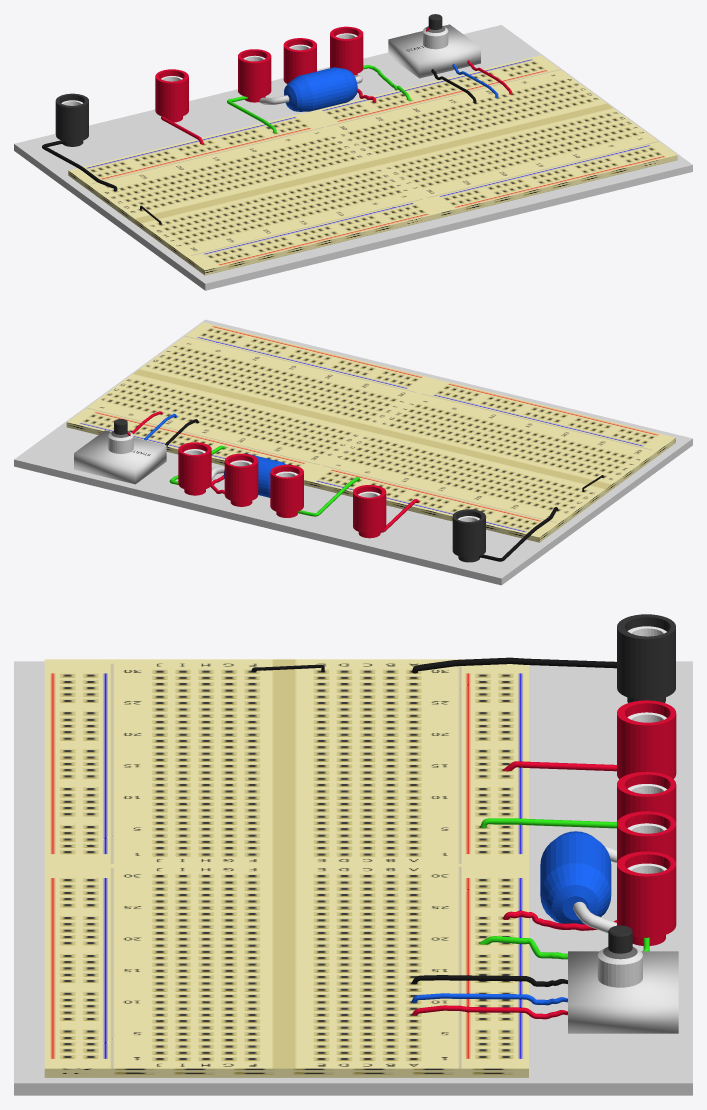
The model's file is breadboardv2.fbx.
3 renders of one model, top to bottom at view 1: azimuth 30°, elevation 25°; view 2: azimuth 150°, elevation 25°; view 3: azimuth 270°, elevation 25°, orthographic. The views are drawn at different scales.
Parts seen in each view (by area): view 1: Cube, Cube.004, Cube.001, Cube.002, Cylinder.001, Cylinder, Cylinder.006, Cylinder.005, Cylinder.010, Cylinder.009, Cylinder.003, Vert; view 2: Cube, Cube.004, Cube.001, Cube.002, Cylinder.009, Cylinder.010, Cylinder.005, Cylinder.006, Cylinder, Cylinder.001, Cylinder.003; view 3: Cube.004, Cube, Cube.001, Cube.002, Cylinder.001, Cylinder.010, Cylinder, Cylinder.005, Cylinder.009, Cylinder.006, Cylinder.003, Vert (+7 smaller).
Part boxes in pixels (x1,y1,x2,y2): Cube: (68, 113, 441, 275); Cube.004: (305, 55, 677, 217); Cube.001: (14, 25, 692, 290); Cube.002: (388, 24, 480, 78); Cylinder.001: (284, 67, 357, 111); Cylinder: (55, 93, 88, 146); Cylinder.006: (238, 49, 271, 102); Cylinder.005: (155, 69, 188, 122); Cylinder.010: (330, 26, 363, 75); Cylinder.009: (283, 38, 316, 83); Cylinder.003: (423, 26, 448, 49); Vert: (42, 140, 117, 191); Cube: (304, 380, 675, 542); Cube.004: (66, 322, 439, 478); Cube.001: (14, 319, 692, 585); Cube.002: (74, 430, 166, 484); Cylinder.009: (224, 453, 258, 506); Cylinder.010: (178, 442, 211, 495); Cylinder.005: (353, 485, 386, 538); Cylinder.006: (270, 464, 303, 517); Cylinder: (452, 509, 485, 562); Cylinder.001: (224, 453, 285, 497); Cylinder.003: (108, 431, 133, 453); Cube.004: (44, 864, 528, 1077); Cube: (44, 659, 528, 863); Cube.001: (14, 661, 692, 1095); Cube.002: (568, 951, 678, 1033); Cylinder.001: (540, 831, 611, 924); Cylinder.010: (617, 851, 676, 945); Cylinder: (617, 614, 675, 702); Cylinder.005: (617, 700, 676, 778); Cylinder.009: (617, 811, 676, 863); Cylinder.006: (617, 771, 676, 822); Cylinder.003: (597, 947, 642, 987); Vert: (412, 657, 616, 673).
Size of the model in its own units: 2251 by 232 by 1530.
